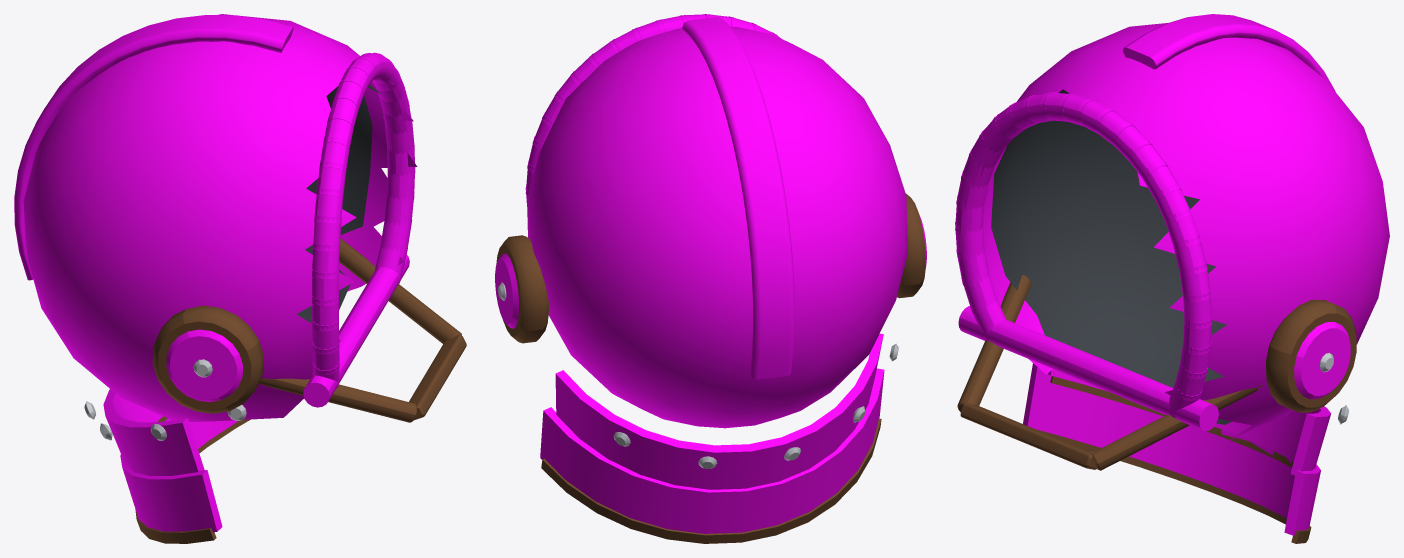
The model's file is objet_armure1_casque.glb.
3 views of the same model, side by side, from view 1: azimuth 30°, elevation 25°; view 2: azimuth 150°, elevation 25°; view 3: azimuth 270°, elevation 25° (orthographic). The views are drawn at different scales.
Parts seen in each view (by area): view 1: tete__casque_teinte.010, tete__casque_sac_cuir.002, tete__casque_teinte_sombre.010, tete__casque_rivet.006; view 2: tete__casque_teinte.010, tete__casque_sac_cuir.002, tete__casque_rivet.006; view 3: tete__casque_teinte.010, tete__casque_teinte_sombre.010, tete__casque_sac_cuir.002.
Boxes of the visible parts, x1,y1,x2,y2 form: tete__casque_teinte.010: [14, 14, 417, 532]; tete__casque_sac_cuir.002: [135, 238, 466, 543]; tete__casque_teinte_sombre.010: [296, 84, 381, 322]; tete__casque_rivet.006: [84, 359, 246, 440]; tete__casque_teinte.010: [495, 14, 926, 533]; tete__casque_sac_cuir.002: [496, 193, 925, 543]; tete__casque_rivet.006: [498, 282, 898, 468]; tete__casque_teinte.010: [955, 14, 1389, 535]; tete__casque_teinte_sombre.010: [991, 89, 1231, 424]; tete__casque_sac_cuir.002: [957, 275, 1356, 543].
Size of the model in its own units: 0.247 by 0.3157 by 0.2469.
